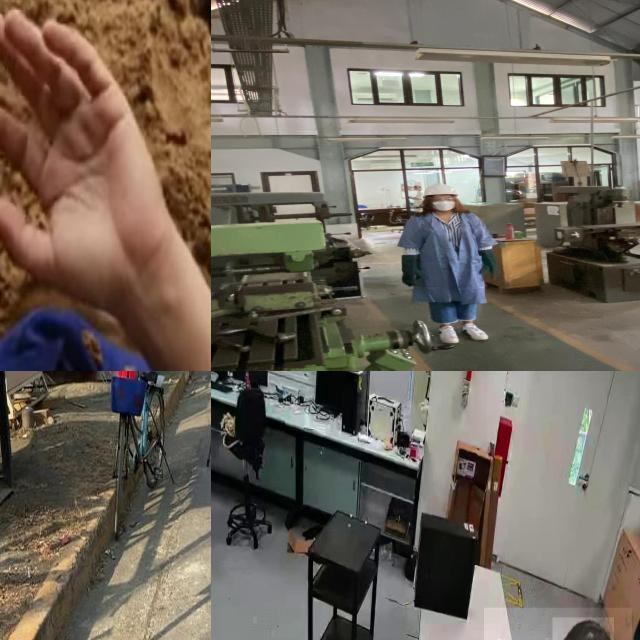face_mask: (428, 194, 458, 212)
glasses: (428, 195, 458, 203)
hand_glove: (396, 267, 427, 287), (476, 261, 500, 275)
head_helmet: (421, 182, 459, 196)
head_nohelmet: (552, 617, 614, 640)
person: (397, 182, 506, 349)
shoes: (458, 320, 493, 342), (434, 322, 463, 346)
